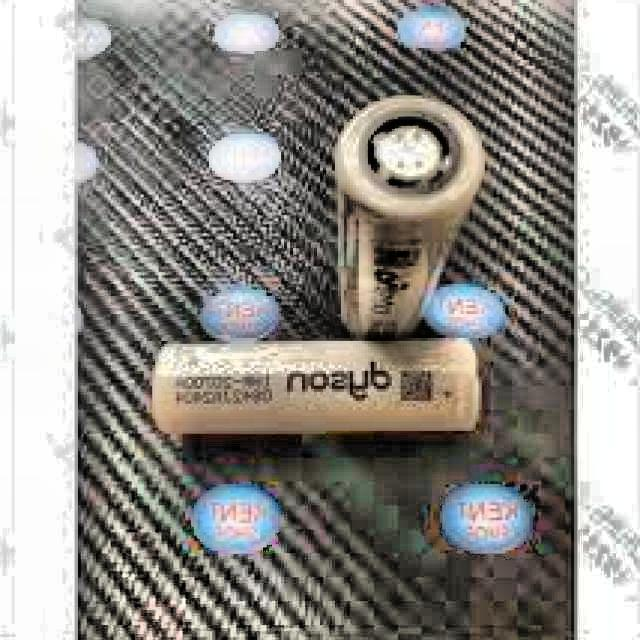battery: (339, 95, 484, 339), (152, 338, 479, 432)
